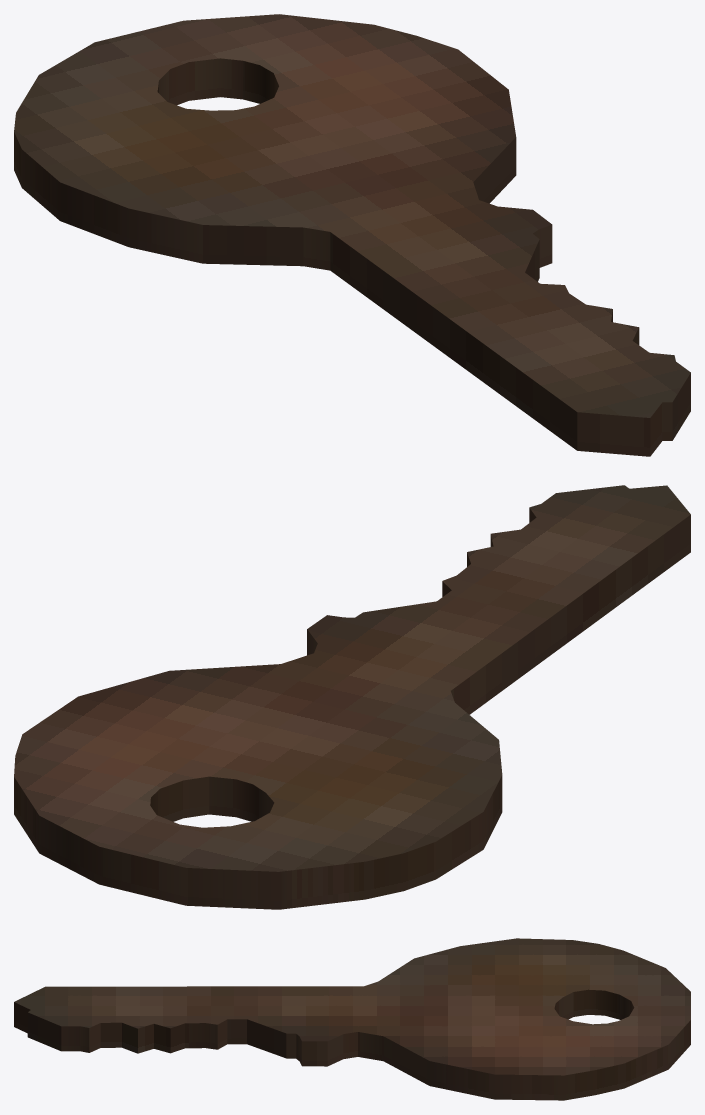
The model's file is key_mp_1_1.glb.
3 renders of one model, top to bottom at view 1: azimuth 30°, elevation 25°; view 2: azimuth 150°, elevation 25°; view 3: azimuth 270°, elevation 25°, orthographic. The views are drawn at different scales.
Visible parts, largest first — view 1: key_mp_1_1; view 2: key_mp_1_1; view 3: key_mp_1_1.
Part boxes in pixels (left/top/right/bottom): key_mp_1_1: left=14, top=14, right=690, bottom=456; key_mp_1_1: left=14, top=485, right=690, bottom=909; key_mp_1_1: left=14, top=938, right=690, bottom=1100.
Size of the model in its own units: 0.0352 by 0.00301 by 0.0735.
Materials: 1 (1 with a texture image).
